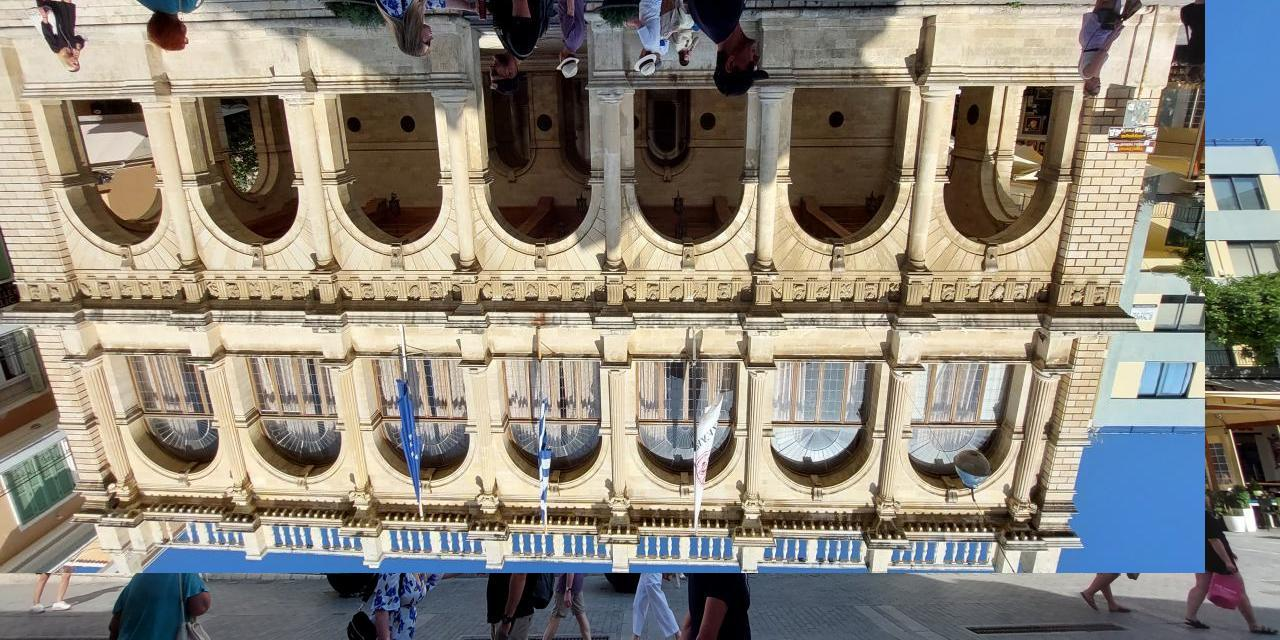Loggia: (1, 1, 1206, 574)
